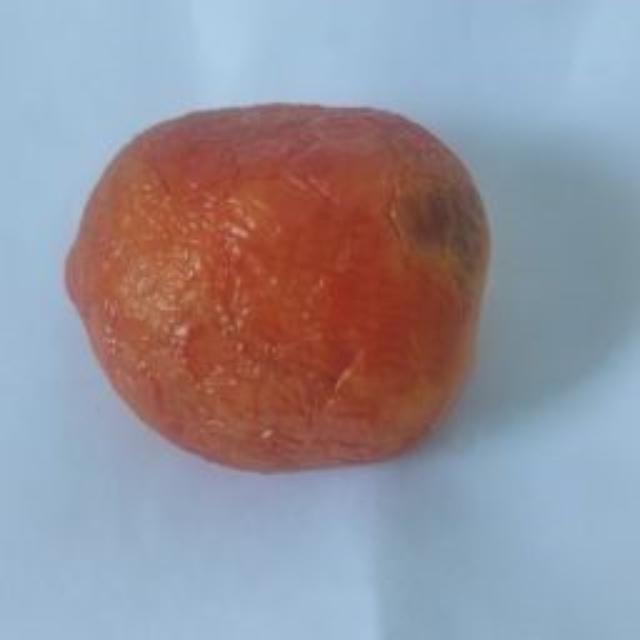defect: (66, 93, 497, 478)
